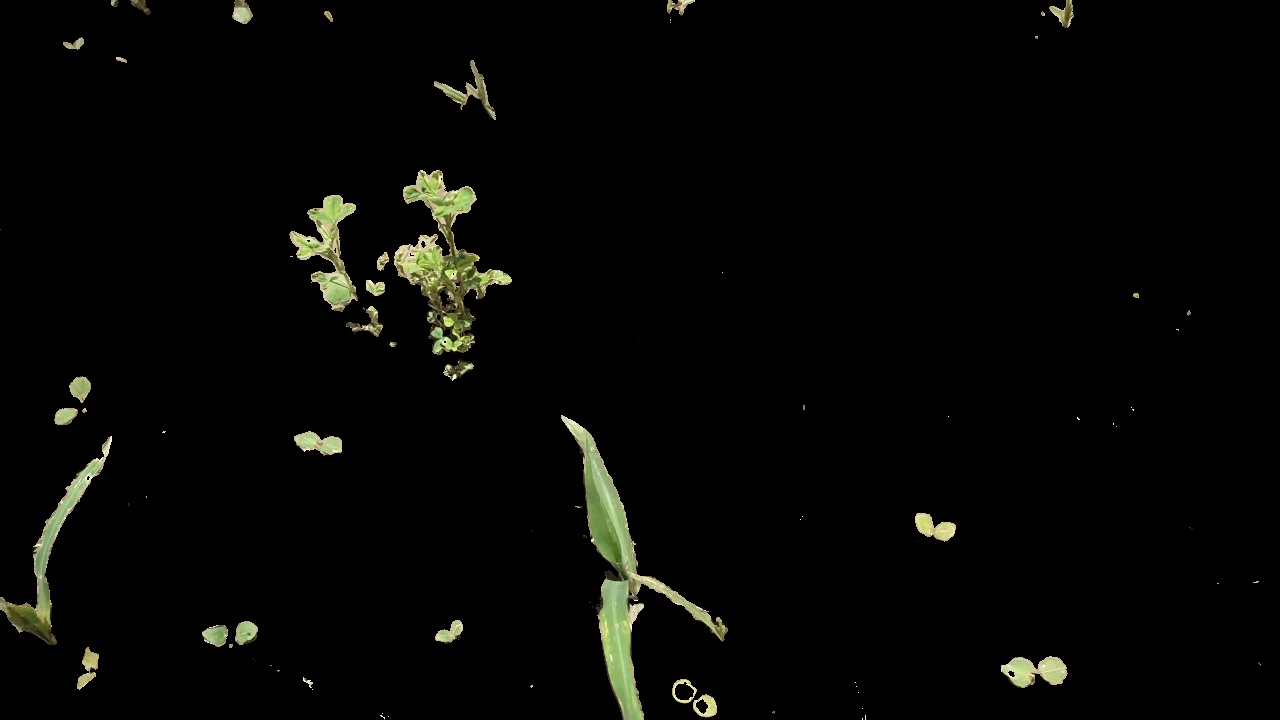crop: (550, 415, 735, 661), (1, 437, 126, 643)
weed: (397, 165, 510, 389), (288, 182, 390, 337), (424, 57, 505, 127), (993, 651, 1077, 690), (288, 419, 347, 467), (666, 674, 723, 719), (53, 373, 90, 432), (199, 618, 259, 652), (914, 508, 959, 547), (73, 645, 103, 699), (431, 618, 467, 643), (57, 32, 86, 53)
